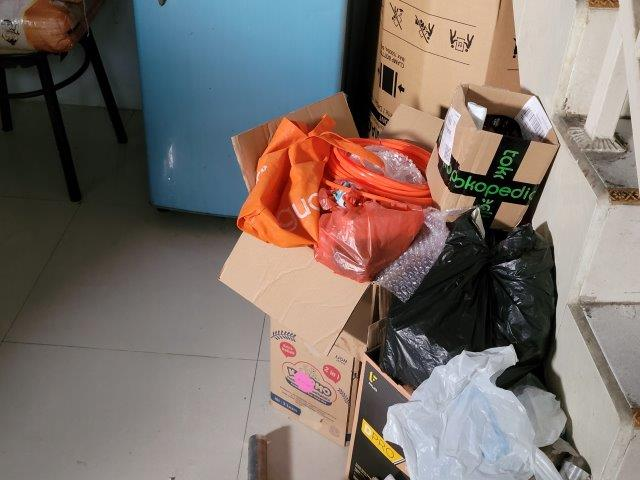kardus: (228, 230, 384, 445), (369, 1, 526, 125), (427, 85, 557, 224)
plastik: (388, 219, 556, 378), (381, 350, 563, 480), (313, 207, 423, 280)
